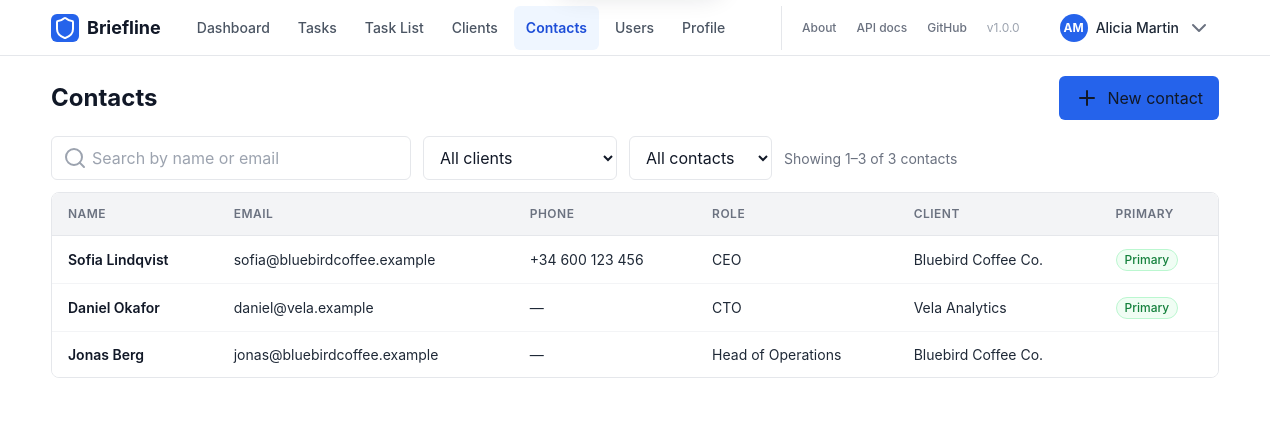
Contact list › shows an empty state when the search matches nothing
This screenshot has width=1280, height=421.
Expected: the heading "Contacts" is shown, 51,83 -> 157,113
Expected: the table named "Contacts" is shown, 52,193 -> 1218,377
In the search field named "Search contacts": (231, 158) 51,136 -> 411,180, type "zzz-nothing"
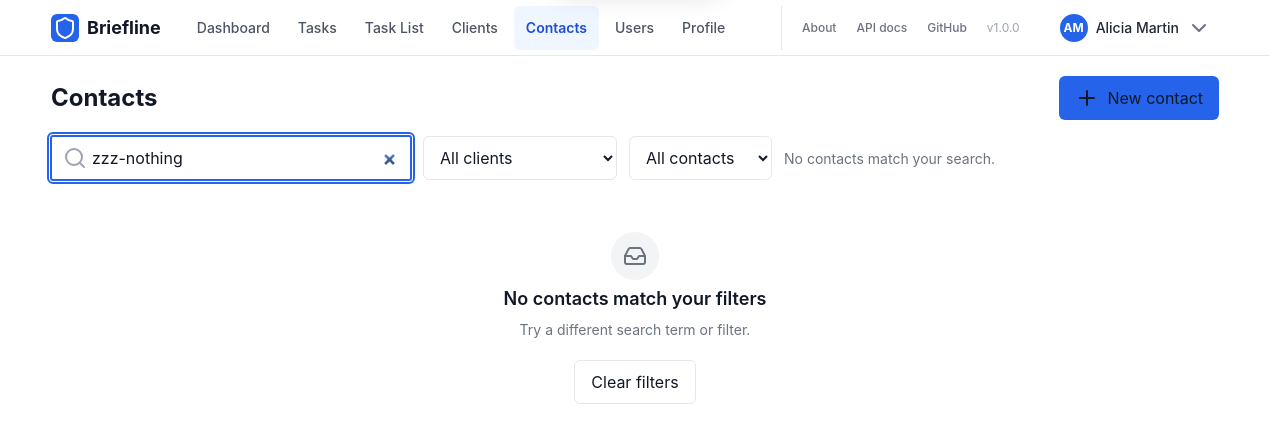
Expected: the heading "No contacts match your filters" is shown, 504,288 -> 766,310
Expected: the text "No contacts match your search." is shown, 784,148 -> 995,168
